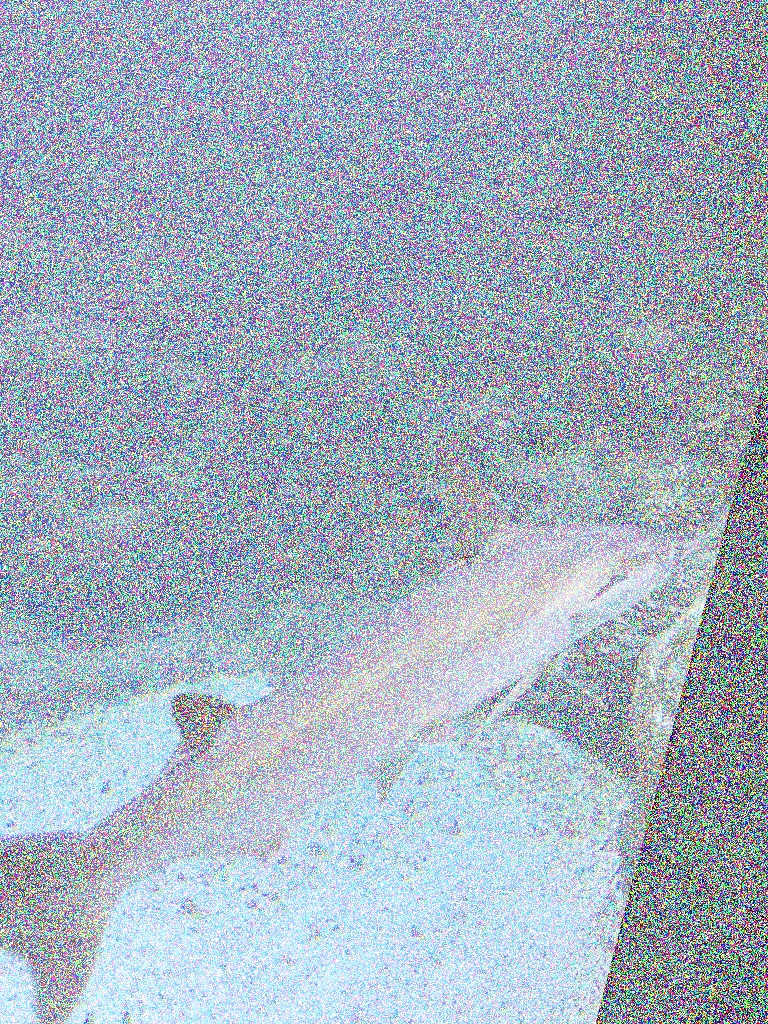shark: (0, 437, 706, 1023)
